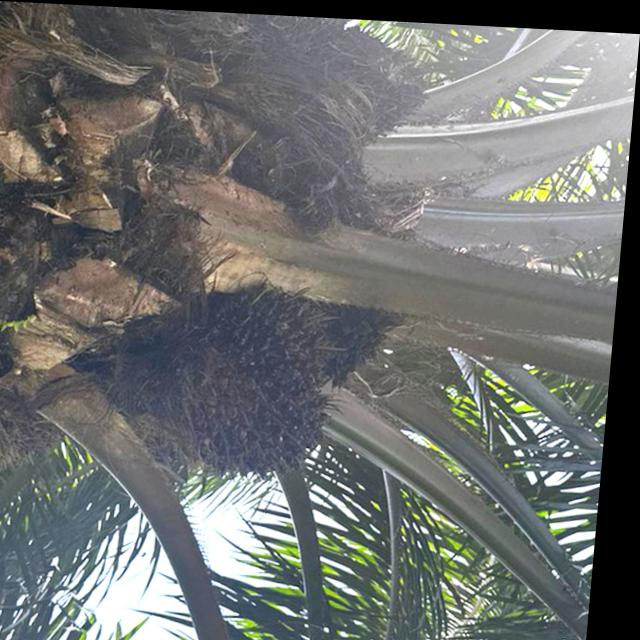ripe: (141, 263, 375, 499)
